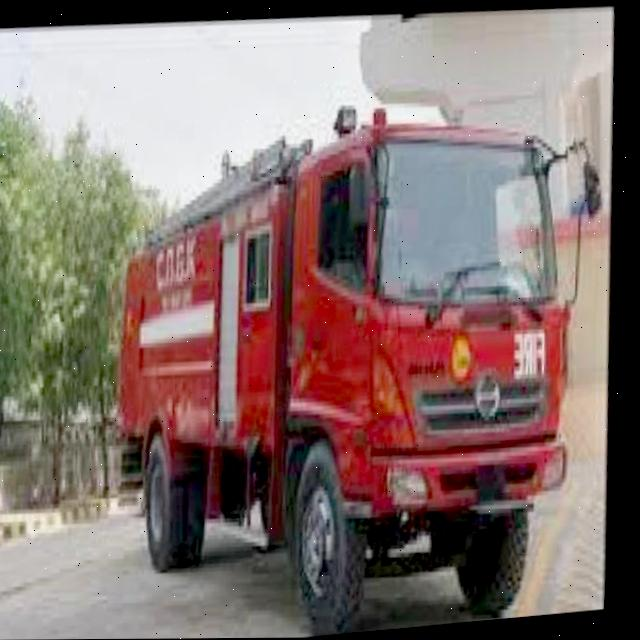emergency: (81, 78, 636, 639)
